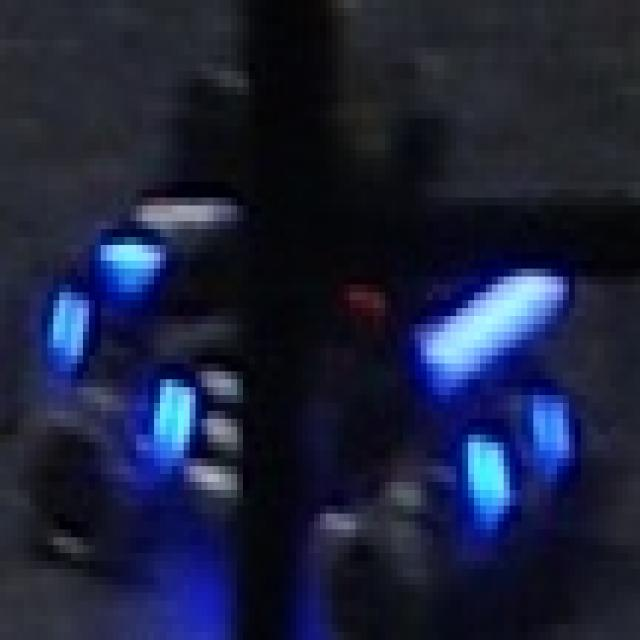B3: (130, 348, 261, 498)
